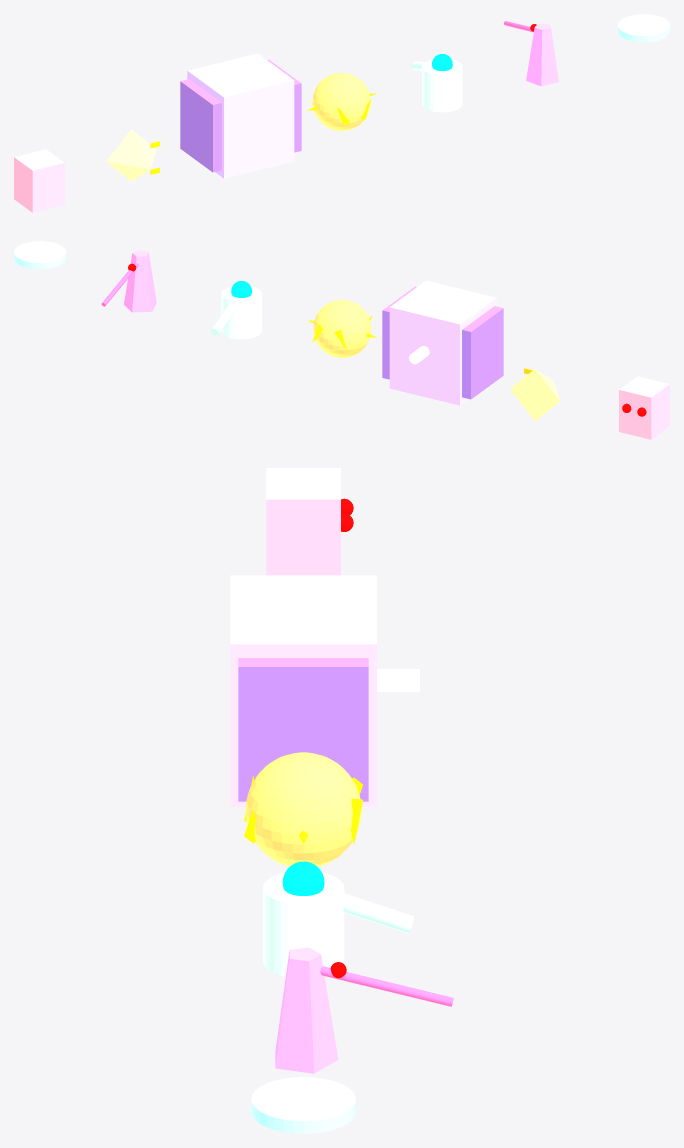
File: enemies.glb
3 renders of one model, top to bottom at view 1: azimuth 30°, elevation 25°; view 2: azimuth 150°, elevation 25°; view 3: azimuth 270°, elevation 25°, orthographic. The views are drawn at different scales.
Visible parts, largest first — view 1: Enemy_Tank, TankArmor, Enemy_Grunt, Enemy_Exploder, Enemy_Shooter, Enemy_Sniper, Enemy_Fast, Enemy_Drone.001; view 2: Enemy_Tank, TankArmor, Enemy_Grunt, Enemy_Exploder, Enemy_Shooter, Enemy_Fast, Enemy_Sniper, Enemy_Drone.001, ShooterBarrel; view 3: Enemy_Tank, TankArmor, Enemy_Exploder, Enemy_Grunt, Enemy_Shooter, Enemy_Sniper, Enemy_Drone.001, ShooterBarrel, SniperBarrel, ShooterDome, TankCannon.
Boxes of the visible parts, box(x1,y1,x2,y2) form: Enemy_Tank: box(187, 53, 294, 178); TankArmor: box(180, 59, 301, 172); Enemy_Grunt: box(14, 149, 64, 212); Enemy_Exploder: box(312, 73, 370, 130); Enemy_Shooter: box(422, 59, 462, 112); Enemy_Sniper: box(526, 23, 558, 86); Enemy_Fast: box(106, 129, 156, 181); Enemy_Drone.001: box(617, 14, 669, 42); Enemy_Tank: box(389, 280, 496, 405); TankArmor: box(382, 286, 503, 399); Enemy_Grunt: box(619, 376, 669, 439); Enemy_Exploder: box(313, 300, 371, 357); Enemy_Shooter: box(221, 286, 261, 339); Enemy_Fast: box(510, 369, 559, 421); Enemy_Sniper: box(124, 250, 156, 312); Enemy_Drone.001: box(14, 241, 66, 269); ShooterBarrel: box(210, 297, 237, 335); Enemy_Tank: box(230, 575, 376, 806); TankArmor: box(238, 658, 368, 801); Enemy_Exploder: box(245, 752, 361, 866); Enemy_Grunt: box(266, 468, 340, 575); Enemy_Shooter: box(263, 872, 344, 976); Enemy_Sniper: box(275, 947, 338, 1073); Enemy_Drone.001: box(251, 1077, 355, 1133); ShooterBarrel: box(323, 887, 413, 933); SniperBarrel: box(320, 966, 453, 1006); ShooterDome: box(282, 861, 324, 895); TankCannon: box(377, 669, 419, 691).
Size of the model in its own units: 12.77 by 1.67 by 1.92.
